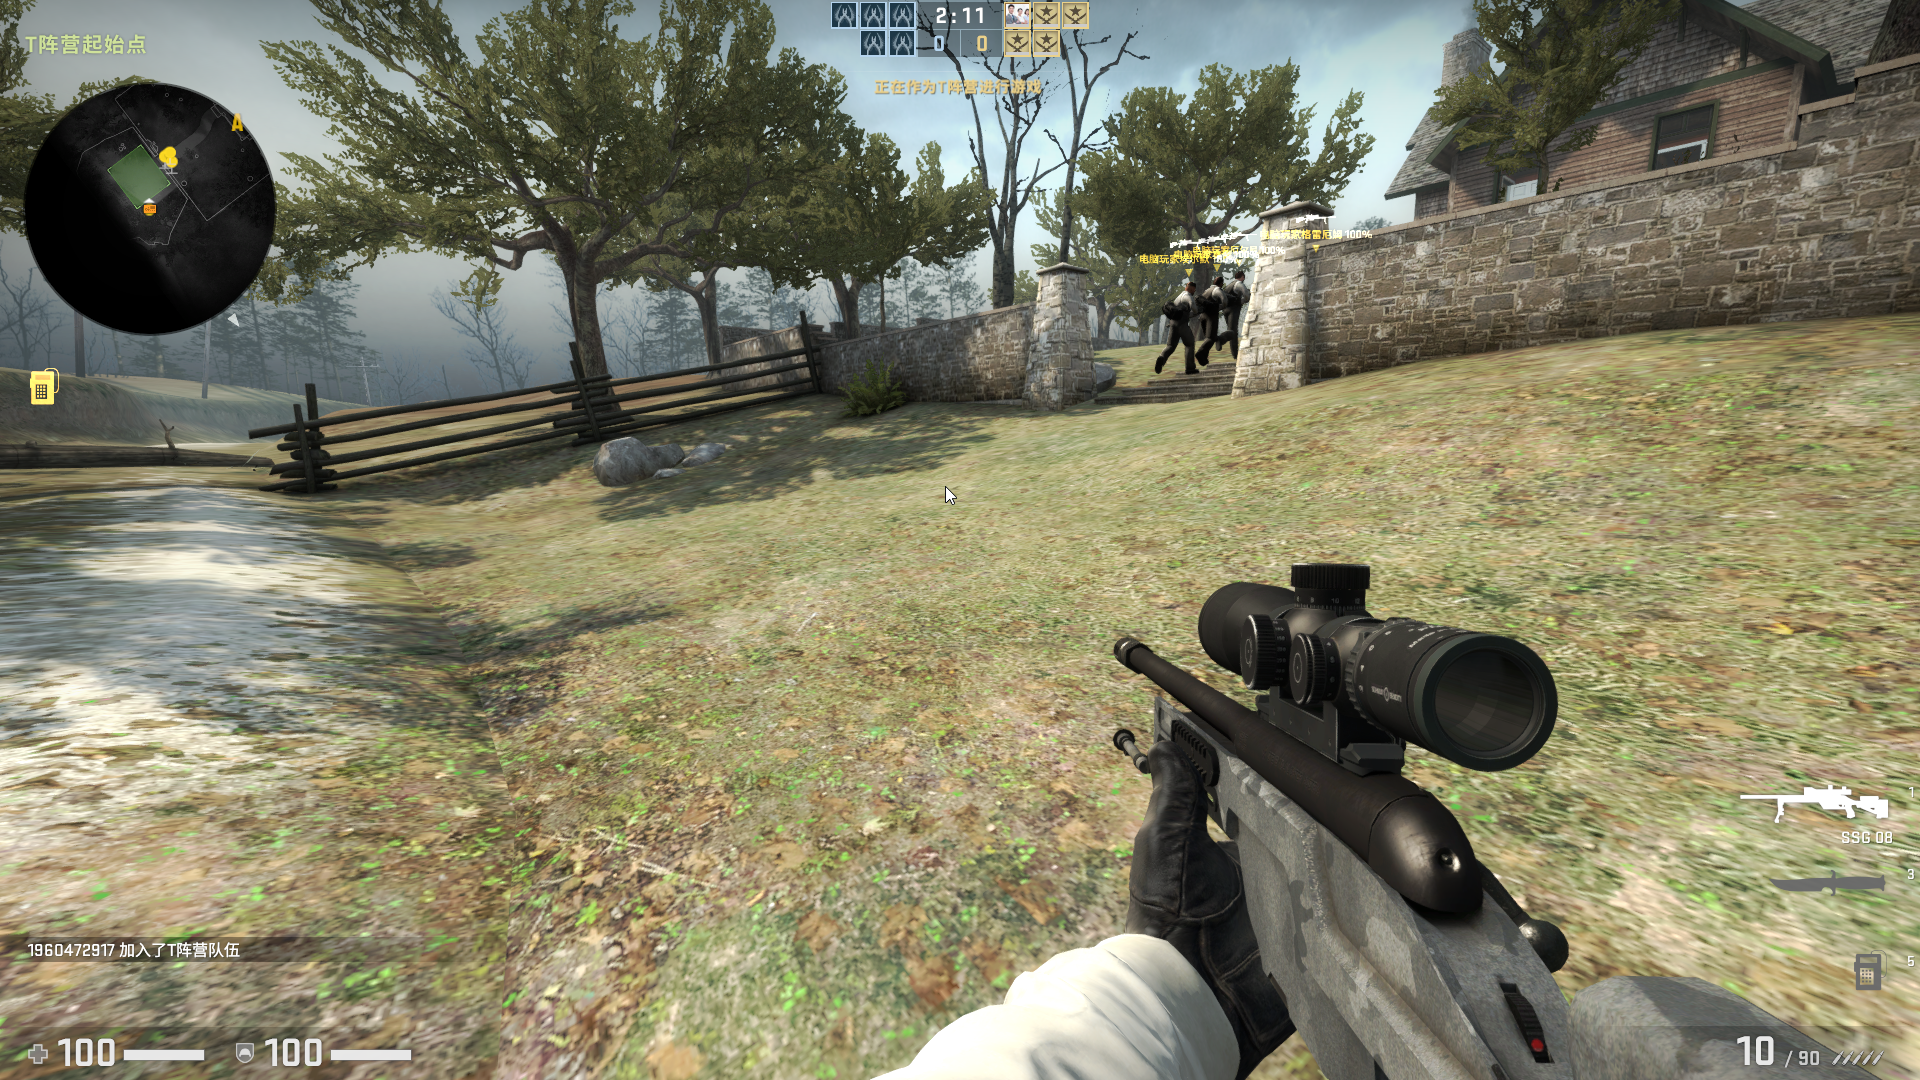person: (1165, 283, 1196, 372), (1224, 271, 1254, 360), (1200, 277, 1224, 365)
